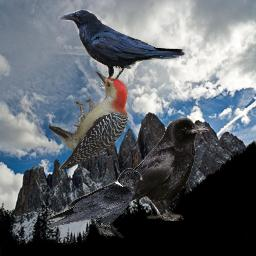Crow: (82, 117, 210, 221), (58, 9, 187, 90), (44, 168, 144, 239)
Woodpecker: (49, 70, 131, 169)
